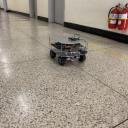cart: (49, 36, 89, 66)
